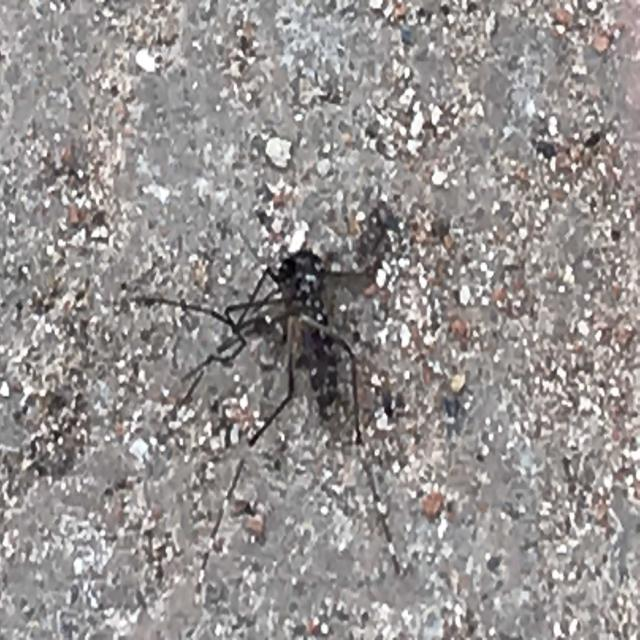albopictus: (110, 208, 393, 492)
